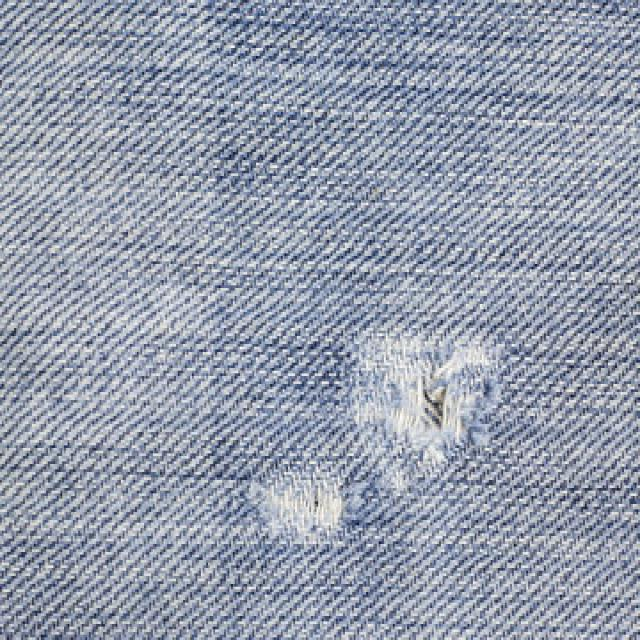Hole: (353, 337, 495, 466), (262, 476, 343, 544)
